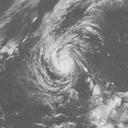cyclone: (32, 21, 93, 97)
